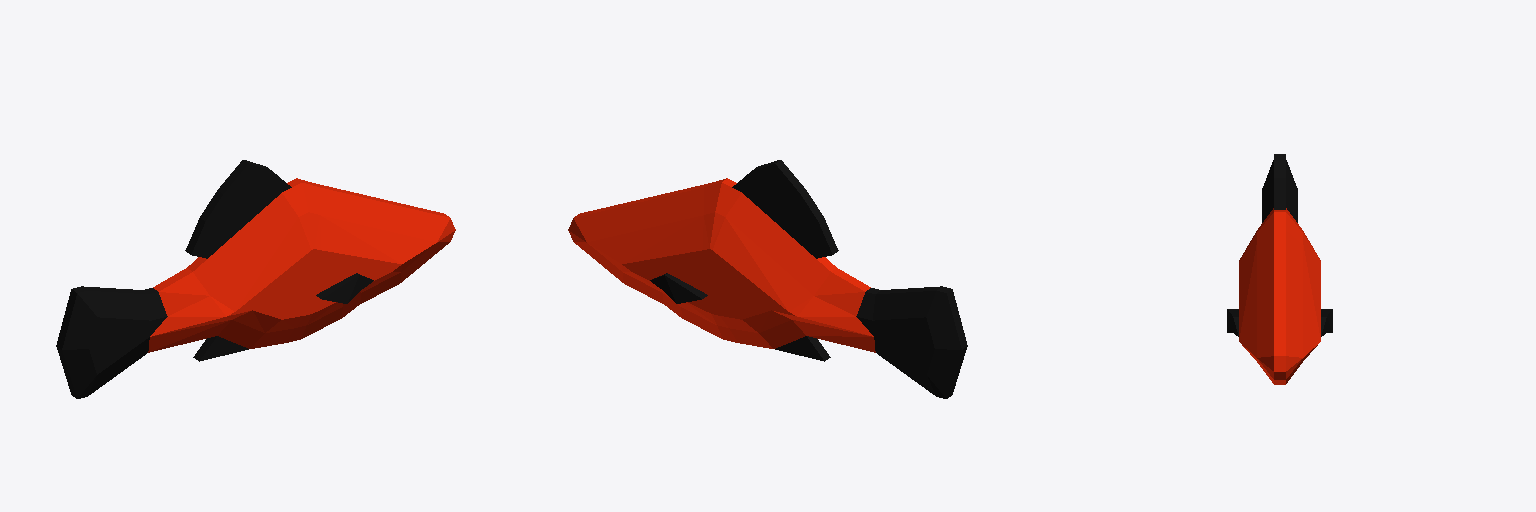
The model's file is platy.obj.
3 renders of one model, left to right at view 1: azimuth 30°, elevation 25°; view 2: azimuth 150°, elevation 25°; view 3: azimuth 270°, elevation 25°, orthographic.
Parts seen in each view (by area): view 1: SketchUp; view 2: SketchUp; view 3: SketchUp.
Boxes of the visible parts, <box> form: SketchUp: <box>56,160,455,398</box>; SketchUp: <box>568,160,967,398</box>; SketchUp: <box>1227,154,1332,384</box>.
Size of the model in its own units: 7.75 by 3.65 by 1.8.